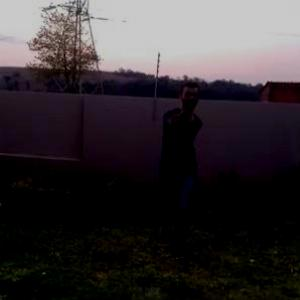takeoff-hand: (165, 100, 190, 135)
